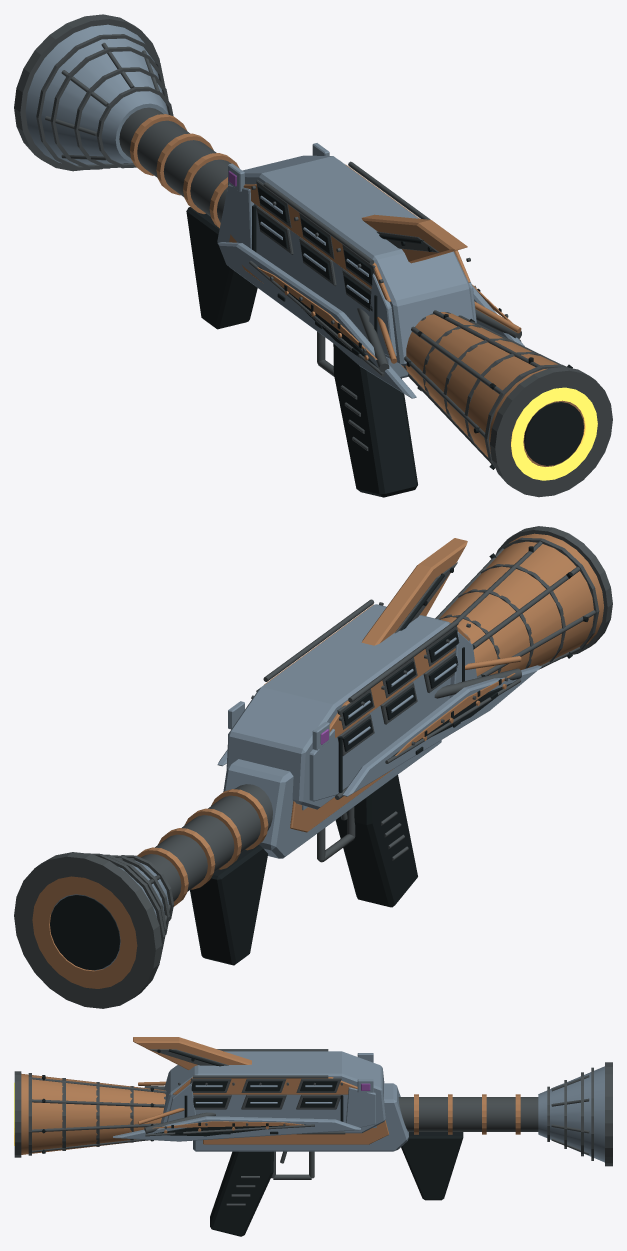
File: kick_3.glb
The picture shows the model from 3 angles, top to bottom: view 1: azimuth 30°, elevation 25°; view 2: azimuth 150°, elevation 25°; view 3: azimuth 270°, elevation 25°; orthographic projection. The views are drawn at different scales.
Parts seen in each view (by area): view 1: Weapon_kick_v1; view 2: Weapon_kick_v1; view 3: Weapon_kick_v1.
Part boxes in pixels (box(x1,y1,x2,y2)): Weapon_kick_v1: box(14, 14, 612, 497); Weapon_kick_v1: box(14, 526, 612, 1008); Weapon_kick_v1: box(14, 1037, 612, 1236).
Bounding box in the file's own units: 0.156 × 0.3139 × 0.884.
